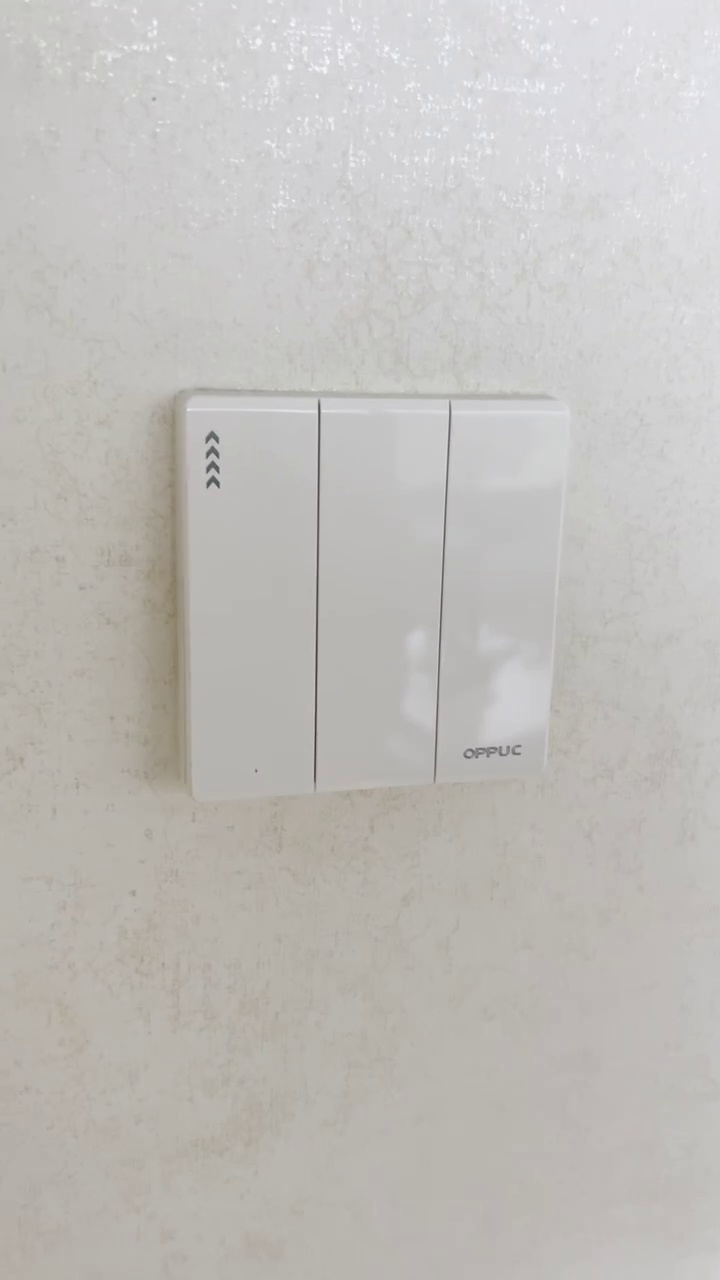button1: (190, 404, 316, 792), (317, 406, 444, 790), (438, 409, 560, 784)
